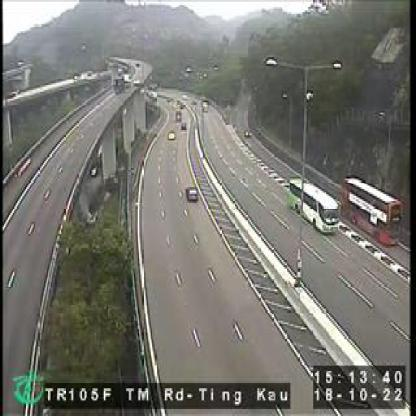Bus: (341, 177, 404, 248), (287, 178, 340, 238)
Car: (186, 186, 199, 203), (167, 131, 176, 142)
